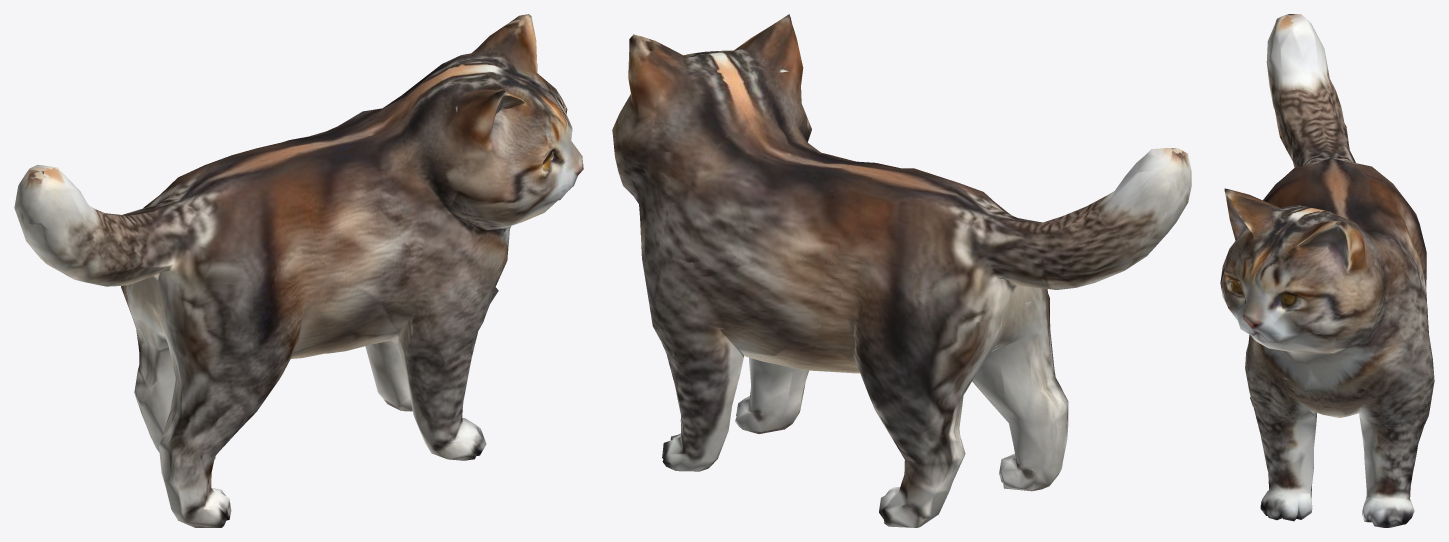
The model's file is EVERLOOP-lo.glb.
The picture shows the model from 3 angles, left to right: view 1: azimuth 30°, elevation 25°; view 2: azimuth 150°, elevation 25°; view 3: azimuth 270°, elevation 25°; orthographic projection. The views are drawn at different scales.
Parts seen in each view (by area): view 1: fit; view 2: fit; view 3: fit.
Part boxes in pixels (bbox=[...]): fit: bbox=[14, 14, 583, 527]; fit: bbox=[612, 14, 1191, 527]; fit: bbox=[1220, 14, 1434, 527].
Size of the model in its own units: 1.47 by 0.9976 by 0.5766.
Materials: 1 (1 with a texture image).
